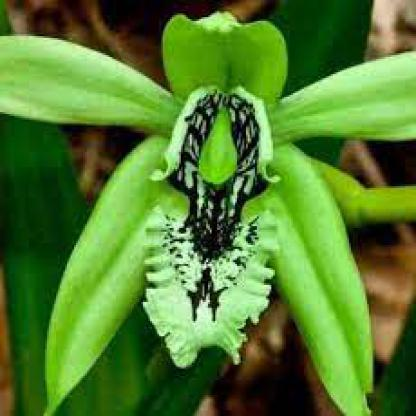ANGGREK: (41, 20, 404, 394)
